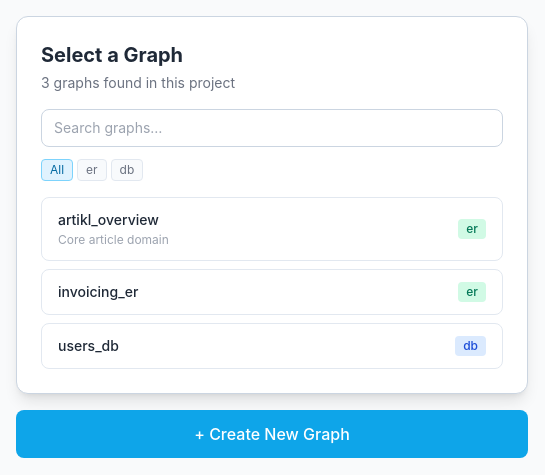
Test: <GraphPicker /> › shows "No graphs match" when filter is too narrow
Type "nonexistent" into the field with placeholder "Search graphs…" at (272,128), box [41,109,503,147]
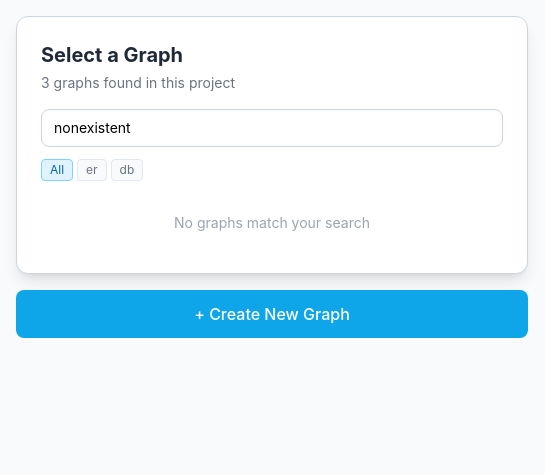
Expected: the text "No graphs match your search" is shown, [174,214,370,231]
